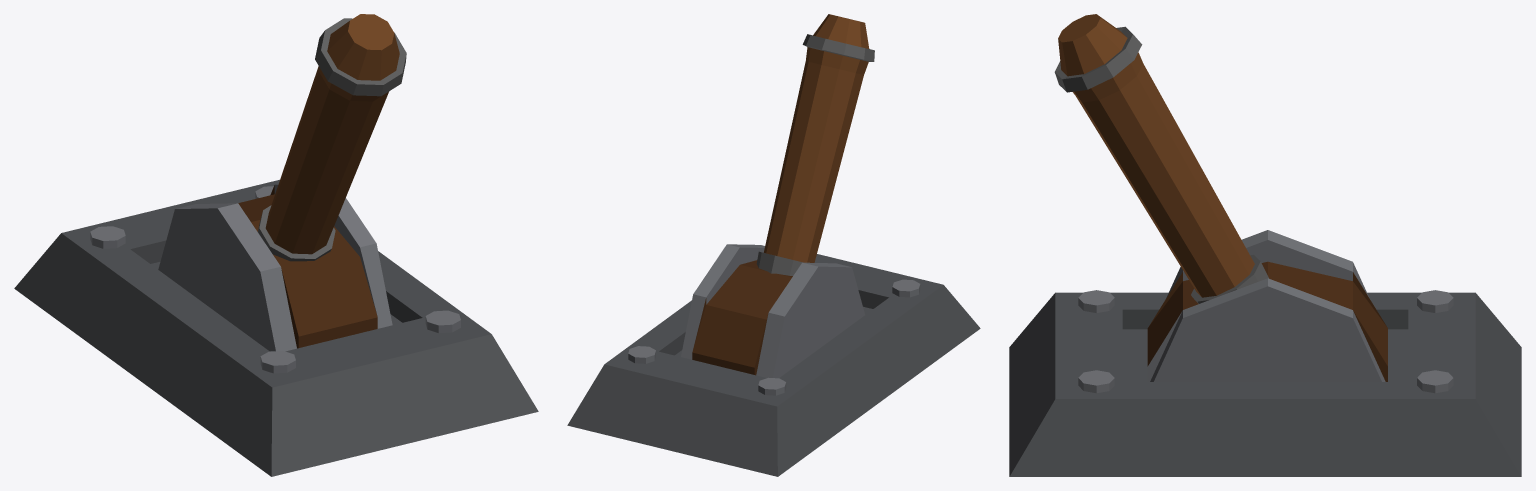
File: Lever1.fbx
The picture shows the model from 3 angles, left to right: view 1: azimuth 30°, elevation 25°; view 2: azimuth 150°, elevation 25°; view 3: azimuth 270°, elevation 25°; orthographic projection. The views are drawn at different scales.
Visible parts, largest first — view 1: Cylinder.004; view 2: Cylinder.004; view 3: Cylinder.004.
Part boxes in pixels (bbox=[...]): Cylinder.004: bbox=[14, 14, 538, 476]; Cylinder.004: bbox=[567, 14, 980, 476]; Cylinder.004: bbox=[1009, 14, 1521, 476].
Bounding box in the file's own units: 147 × 209 × 246.
